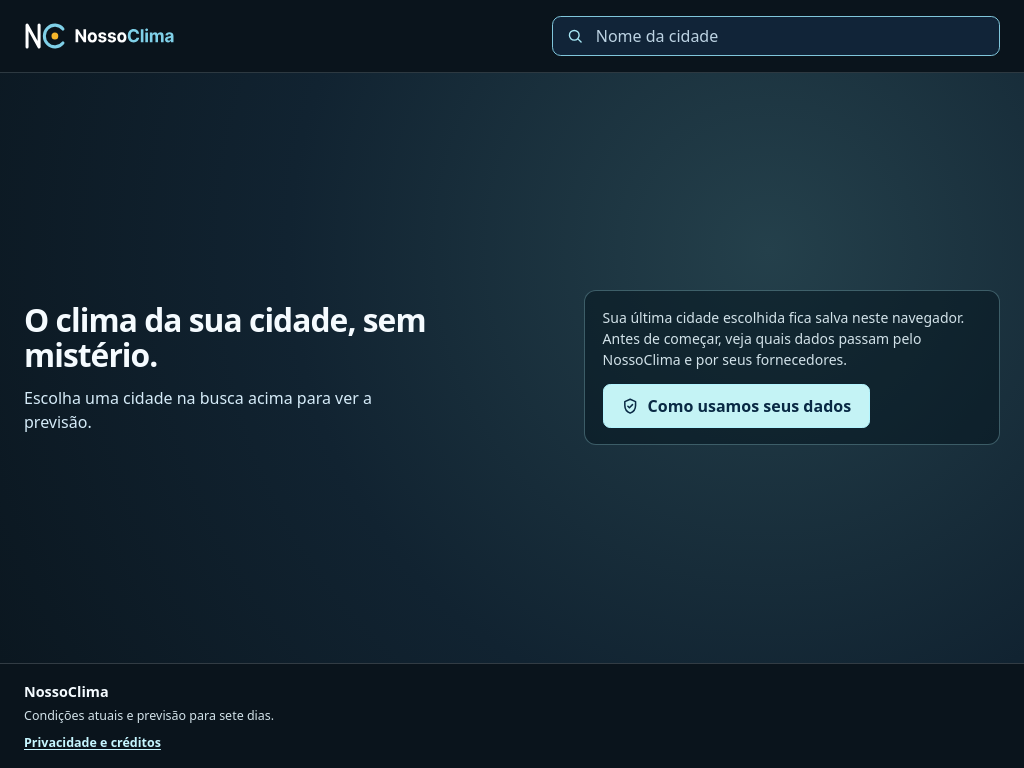
Test case: city-to-forecast flow › distinguishes no results, search failure and explicit search retry
Type "Sao" into the dropdown named "Buscar cidade" at [790, 36], box [594,24,986,48]
Wait 300 ms
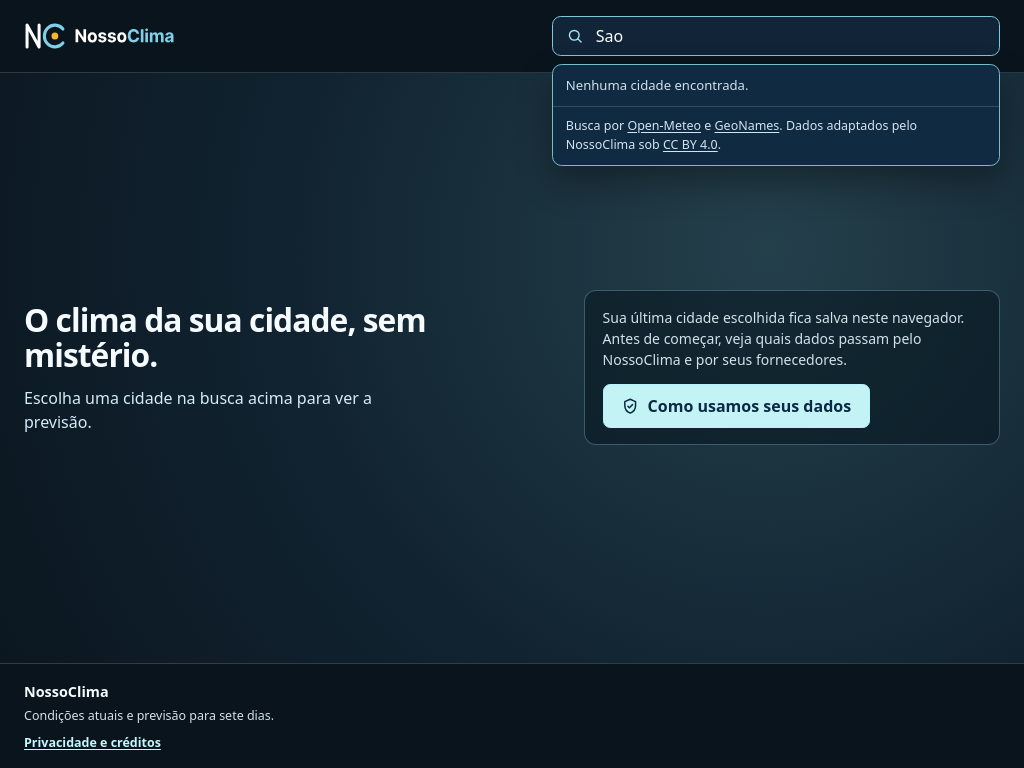
Expected: the text "Nenhuma cidade encontrada." is shown, [566,76,748,94]
Replace the text in the dropdown named "Buscar cidade" with "São" at [790, 36], box [594,24,986,48]
Wait 300 ms
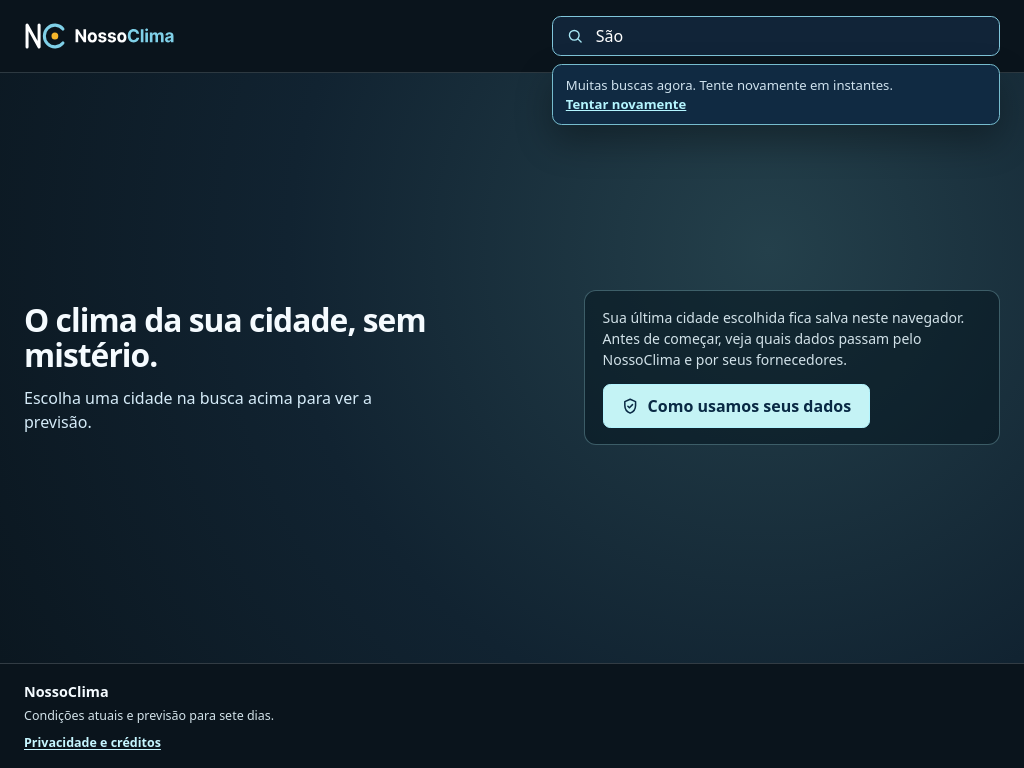
Expected: the text "Muitas buscas agora. Tente novamente em instantes. Tentar novamente" is shown, [566,76,893,113]
Click the button "Tentar novamente" at [626, 104], box [566,95,686,113]
Wait 300 ms
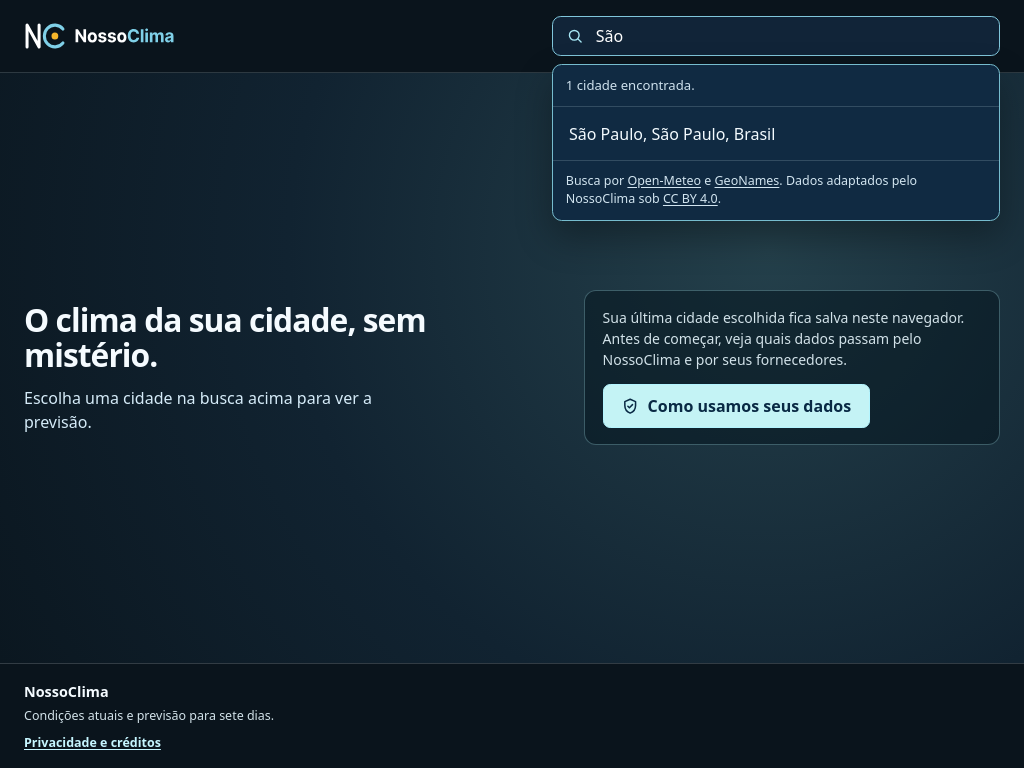
Expected: the option "São Paulo, São Paulo, Brasil" is shown, [558,112,994,156]
